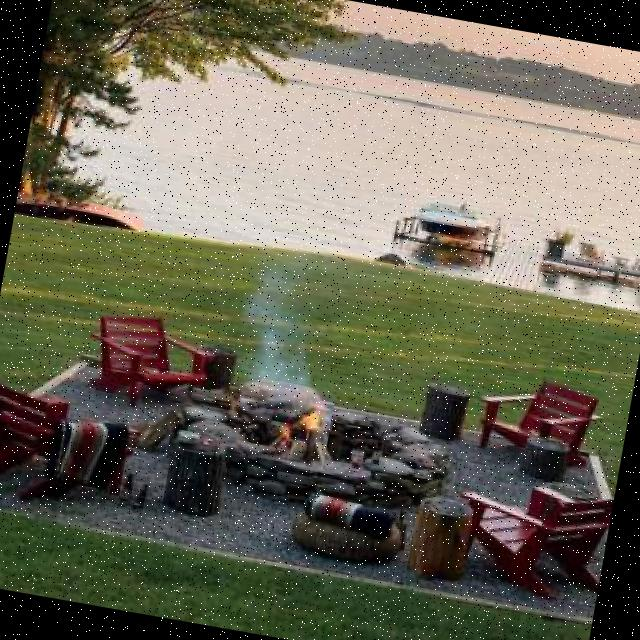fire: (247, 378, 336, 472)
